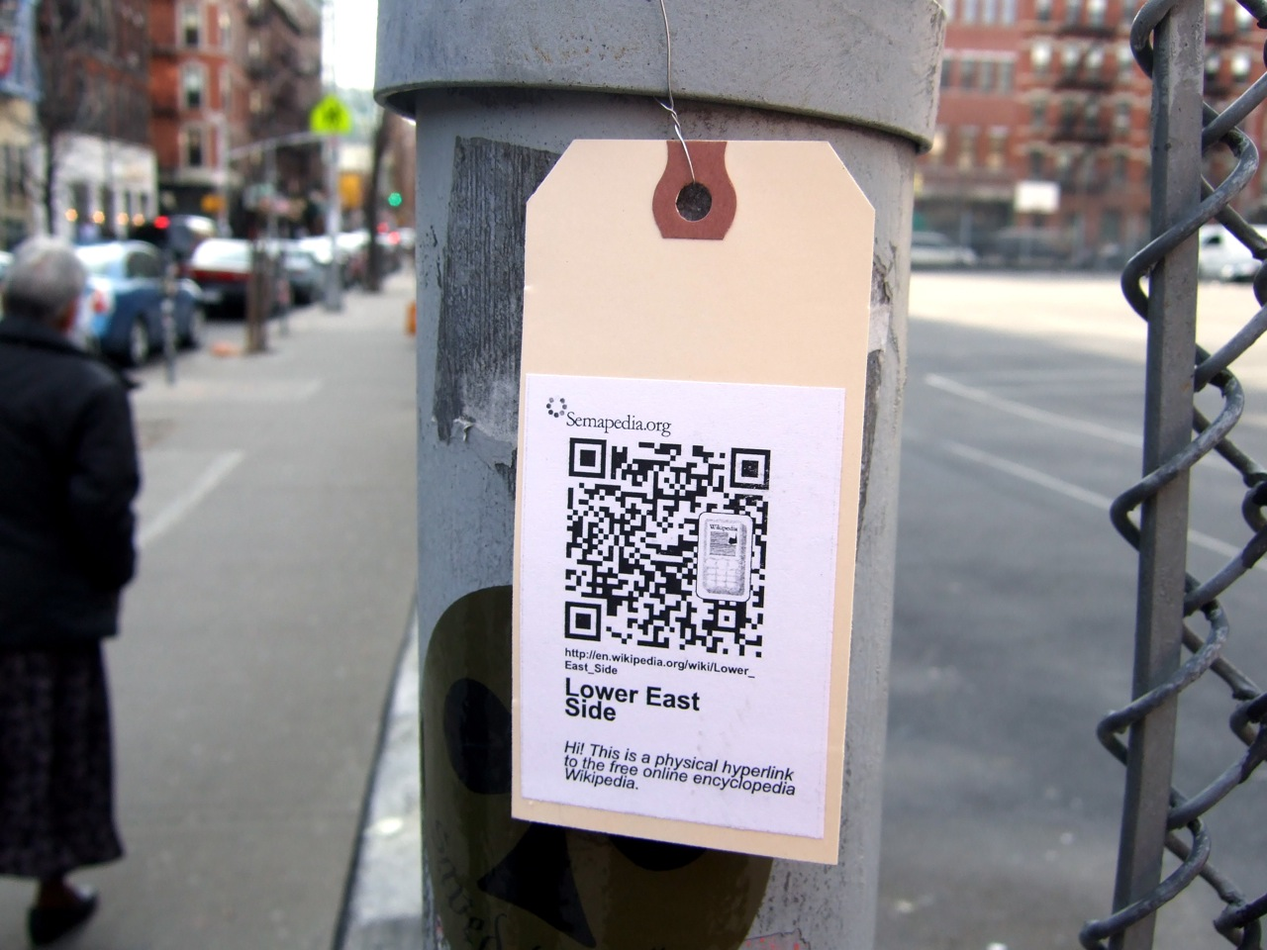QR-CODE: (564, 437, 770, 657)
